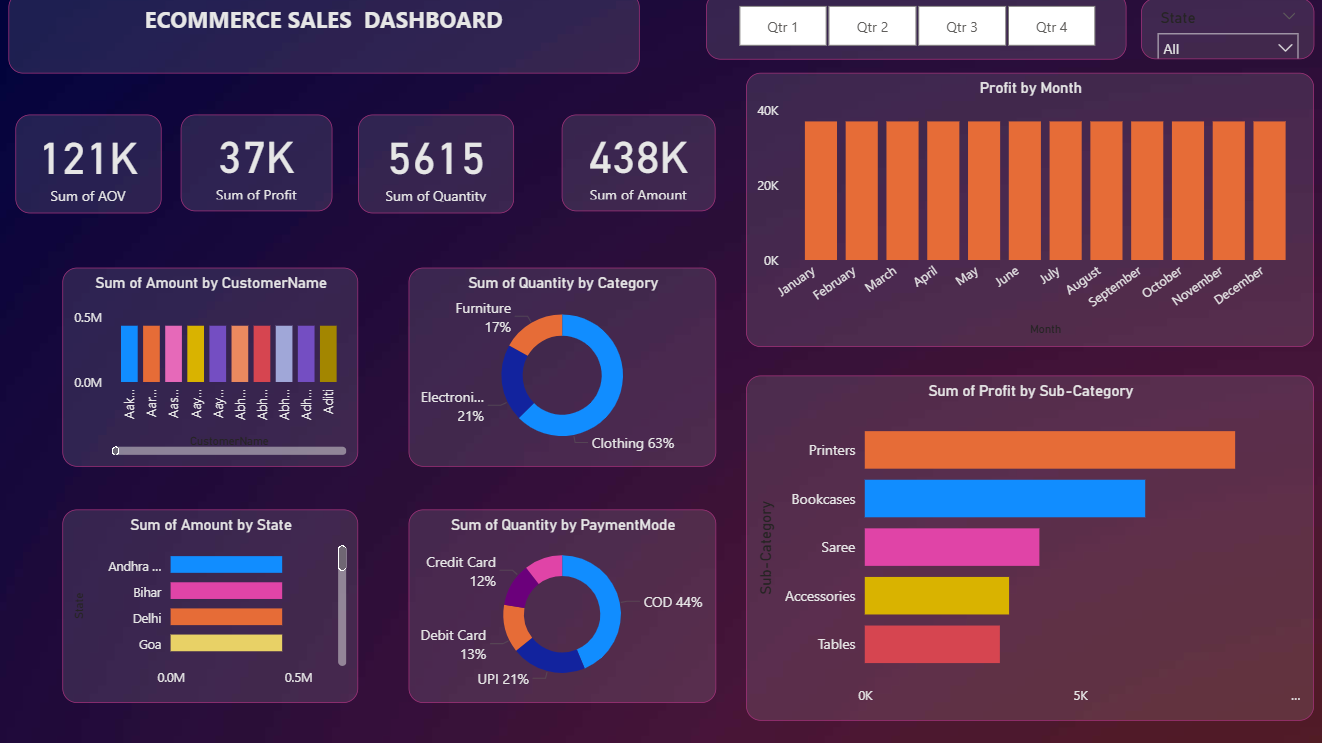

The page's visual inventory and layout, read from the dashboard file:
{"tool":"powerbi","page":{"name":"Page 1","canvas":[1280,720],"ordinal":0},"visuals":[{"type":"textbox","box":[9.4,0,604.7,77.5],"z":0},{"type":"columnChart","title":"Profit by Month","fields":{"Y":["Details.Profit"],"Category":["Orders.Order Date.Variation.Date Hierarchy.Month"]},"box":[716.2,77.5,544.3,262.7],"z":1000},{"type":"barChart","fields":{"Category":["Details.Sub-Category"],"Y":["Details.Profit"]},"box":[716.2,366.6,544.3,330.7],"z":2000},{"type":"donutChart","fields":{"Y":["Details.Quantity"],"Category":["Details.PaymentMode"]},"box":[393.1,495.1,294.8,185.2],"z":3000},{"type":"donutChart","fields":{"Category":["Details.Category"],"Y":["Details.Quantity"]},"box":[393.1,262.7,294.8,190.9],"z":4000},{"type":"card","fields":{"Values":["Details.Amount"]},"box":[540.5,117.2,147.4,92.6],"z":5000},{"type":"card","fields":{"Values":["Details.Profit"]},"box":[175.7,117.2,145.5,92.6],"z":6000},{"type":"card","fields":{"Values":["Details.Quantity"]},"box":[345.8,117.2,149.3,94.5],"z":7000},{"type":"card","fields":{"Values":["Details.AOV"]},"box":[17,117.2,139.8,94.5],"z":8000},{"type":"barChart","fields":{"Category":["Orders.State"],"Y":["Details.Amount"]},"box":[62.4,495.1,283.5,185.2],"z":9000},{"type":"columnChart","fields":{"Category":["Orders.CustomerName"],"Y":["Details.Amount"]},"box":[62.4,262.7,283.5,190.9],"z":10000},{"type":"slicer","fields":{"Values":["Orders.Order Date.Variation.Date Hierarchy.Quarter"]},"box":[678.4,0,402.5,64.3],"z":11000},{"type":"slicer","fields":{"Values":["Orders.State"]},"box":[1094.2,5.7,166.3,58.6],"z":11001}]}

Visuals, with their boxes in screenshot pixels (x1, y1, x2, y2), scaled from the page's 1280x720 canvas onto the 1322x743 screenshot:
textbox: detection(10, 0, 634, 80)
"Profit by Month" columnChart: detection(740, 80, 1302, 351)
barChart - Details.Sub-Category x Details.Profit: detection(740, 378, 1302, 720)
donutChart - Details.Quantity x Details.PaymentMode: detection(406, 511, 710, 702)
donutChart - Details.Category x Details.Quantity: detection(406, 271, 710, 468)
card - Details.Amount: detection(558, 121, 710, 217)
card - Details.Profit: detection(181, 121, 332, 217)
card - Details.Quantity: detection(357, 121, 511, 218)
card - Details.AOV: detection(18, 121, 162, 218)
barChart - Orders.State x Details.Amount: detection(64, 511, 357, 702)
columnChart - Orders.CustomerName x Details.Amount: detection(64, 271, 357, 468)
slicer - Orders.Order Date.Variation.Date Hierarchy.Quarter: detection(701, 0, 1116, 66)
slicer - Orders.State: detection(1130, 6, 1302, 66)
